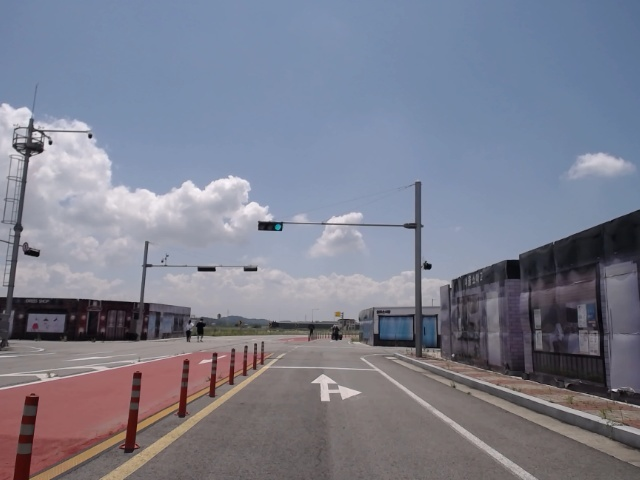green_3: (258, 221, 283, 230)
